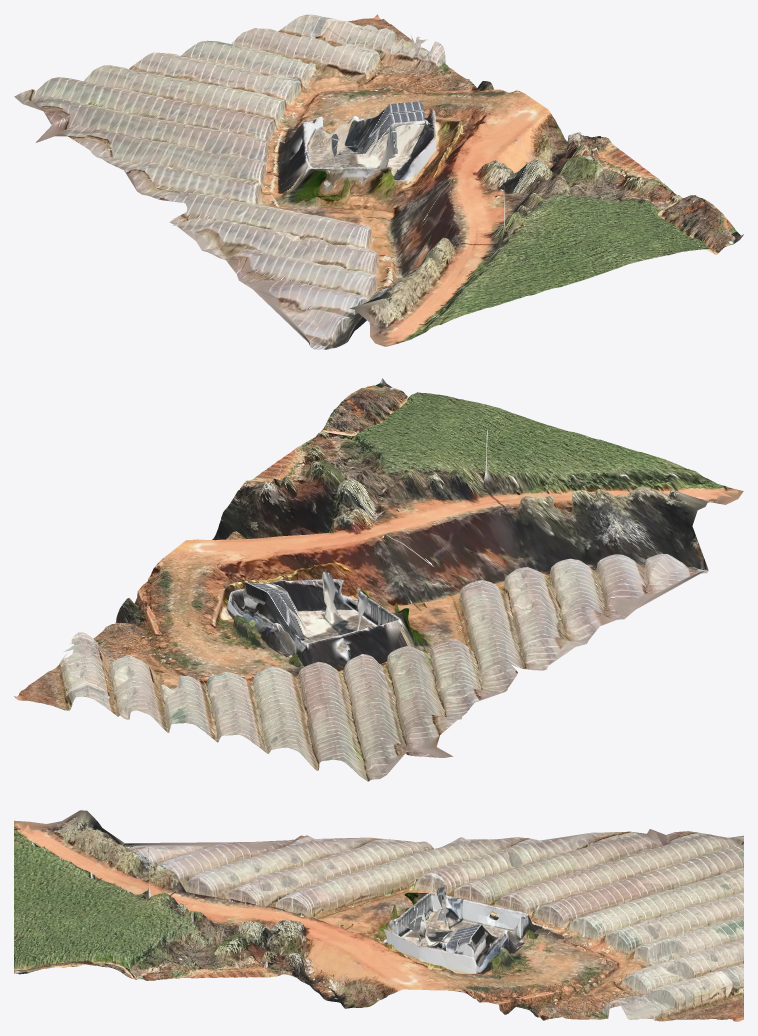
File: BlockBY_L20_265.glb
3 views of the same model, one above another, from view 1: azimuth 30°, elevation 25°; view 2: azimuth 150°, elevation 25°; view 3: azimuth 270°, elevation 25° (orthographic).
Visible parts, largest first — view 1: rtc; view 2: rtc; view 3: rtc.
Part boxes in pixels (x1=…): rtc: x1=14, y1=14, x2=743, y2=349; rtc: x1=14, y1=378, x2=743, y2=781; rtc: x1=14, y1=810, x2=743, y2=1021.
Size of the model in its own units: 50.81 by 13.37 by 82.71.
8 materials, 8 textured.
